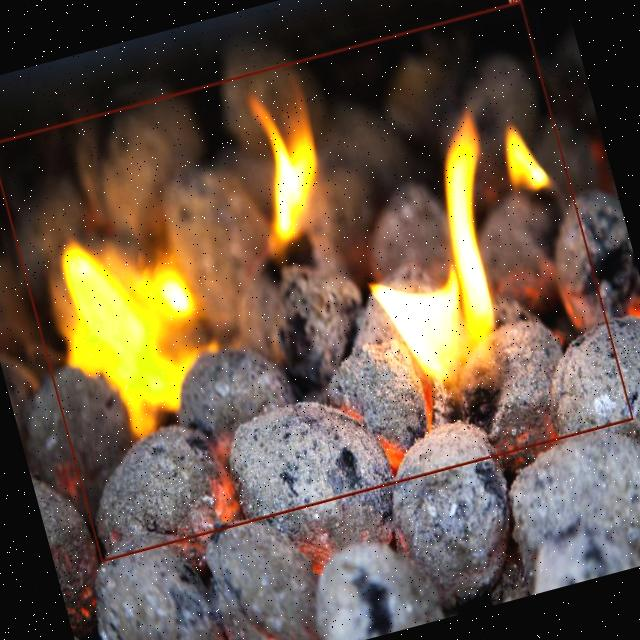fire: (0, 0, 634, 561)
